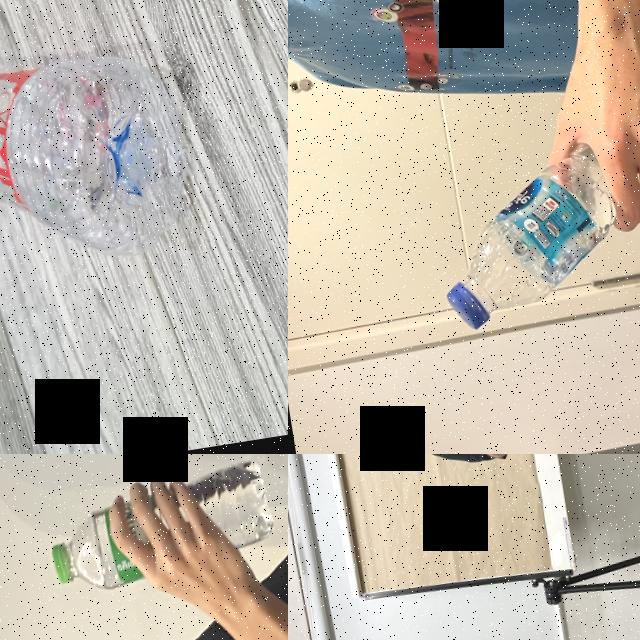bottle: (418, 82, 640, 333), (0, 22, 203, 286), (38, 454, 282, 598)
